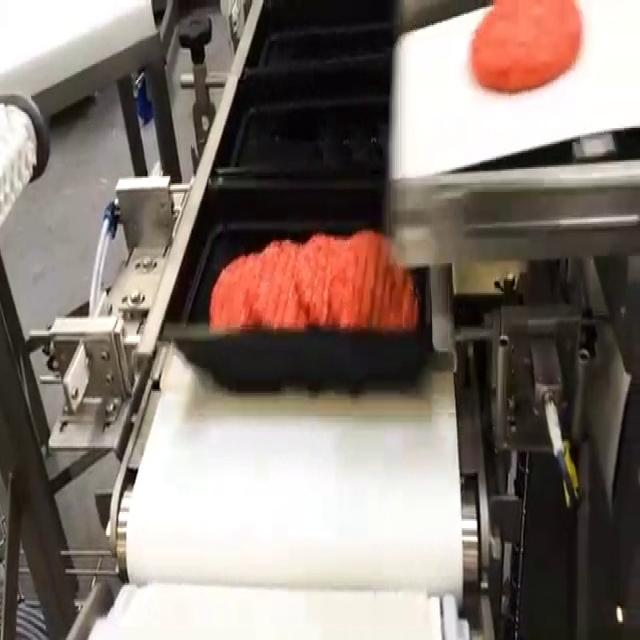4-hamburguer: (209, 231, 418, 329)
